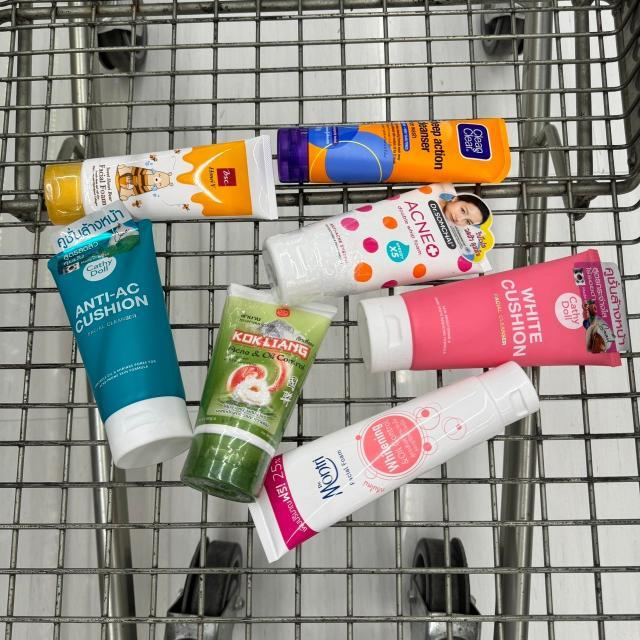Squeeze Tube: (251, 353, 538, 569), (49, 201, 194, 466), (183, 286, 338, 502), (359, 247, 626, 369), (265, 185, 491, 307), (47, 134, 280, 228), (280, 124, 503, 186)
